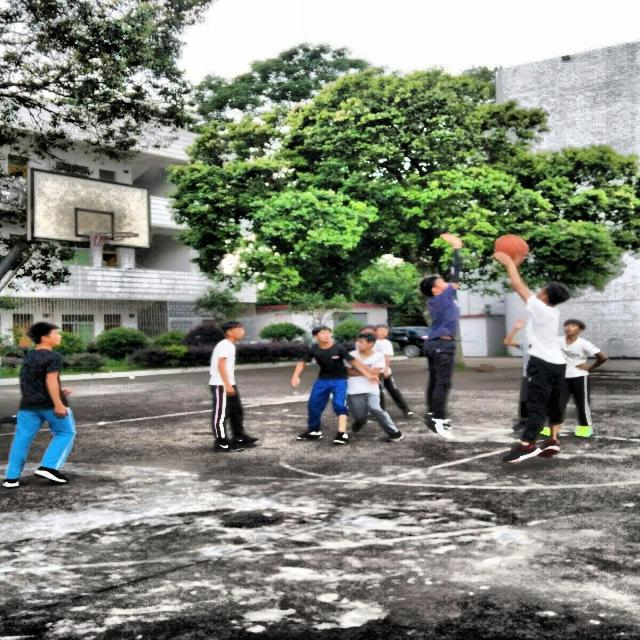board: (494, 234, 528, 266)
